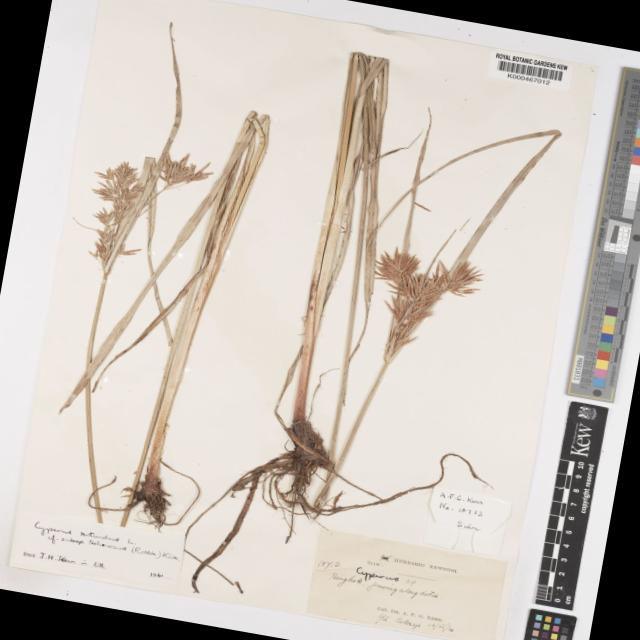cyperus: (68, 132, 220, 290), (349, 240, 489, 374)
